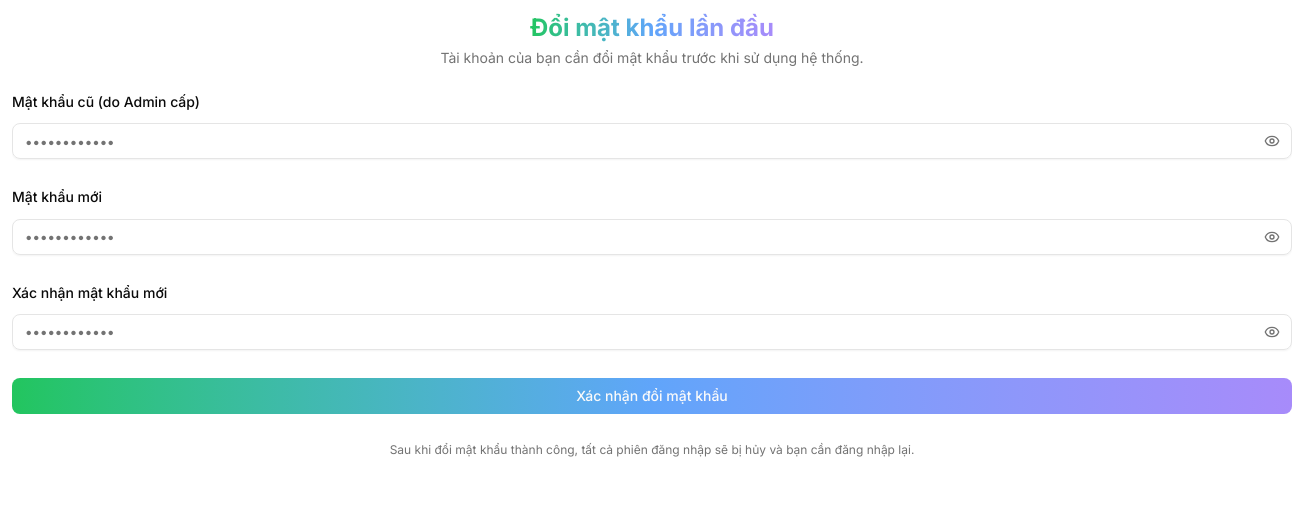
<ChangePasswordForm /> › rejects when confirmation does not match
In the password field labelled "Mật khẩu cũ (do Admin cấp)": [652, 141] box [12, 123, 1292, 159], type "OldPass1!"
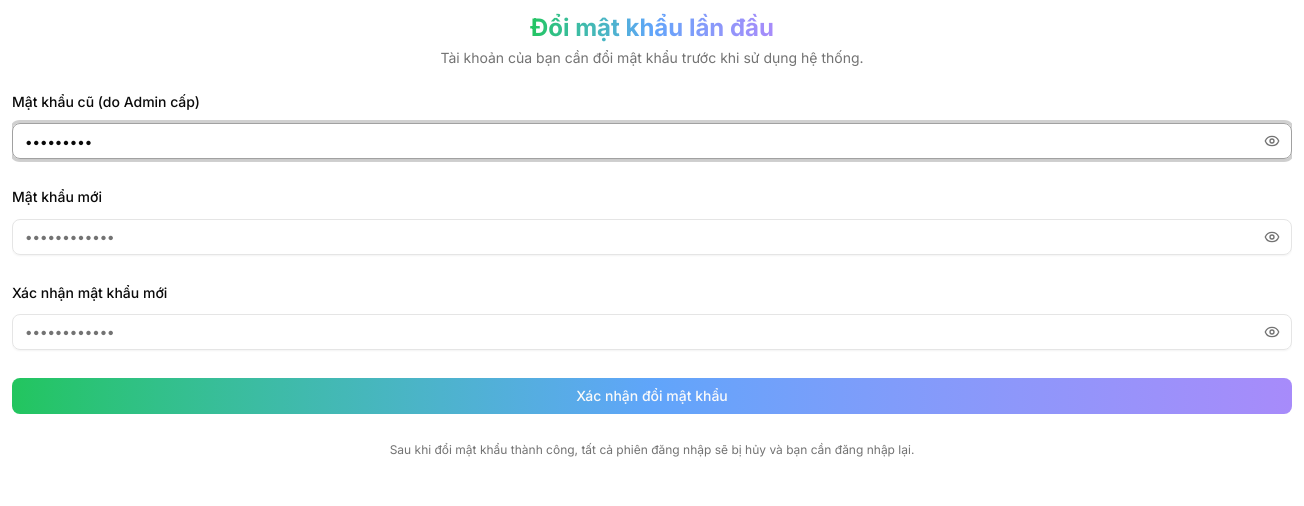
In the password field labelled "Mật khẩu mới": [652, 236] box [12, 218, 1292, 254], type "NewPass1!"
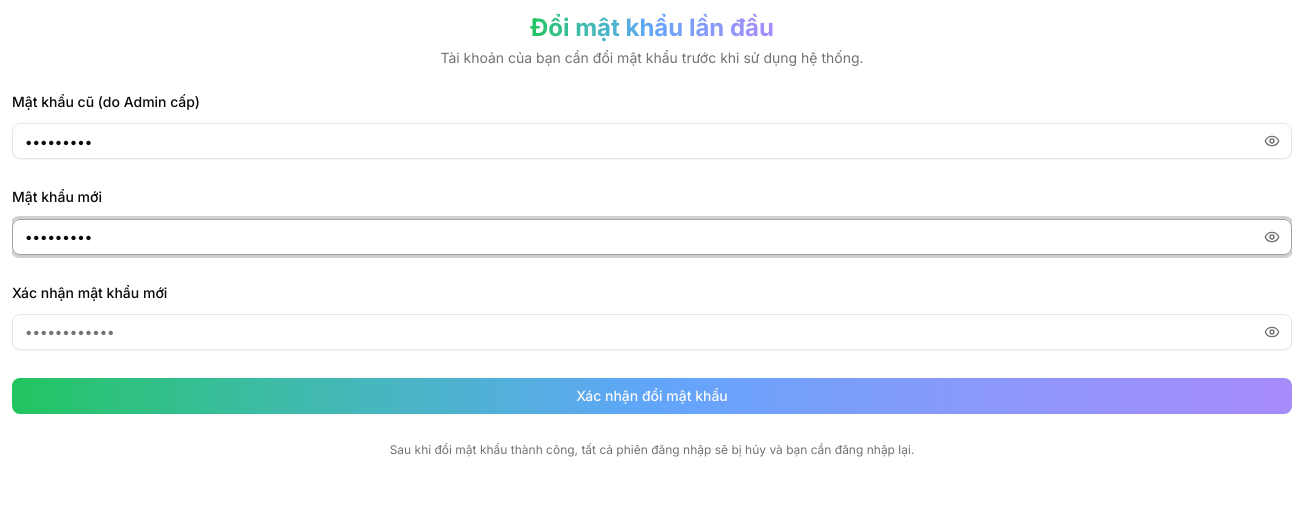
In the password field labelled "Xác nhận mật khẩu mới": [652, 332] box [12, 314, 1292, 350], type "Different1!"
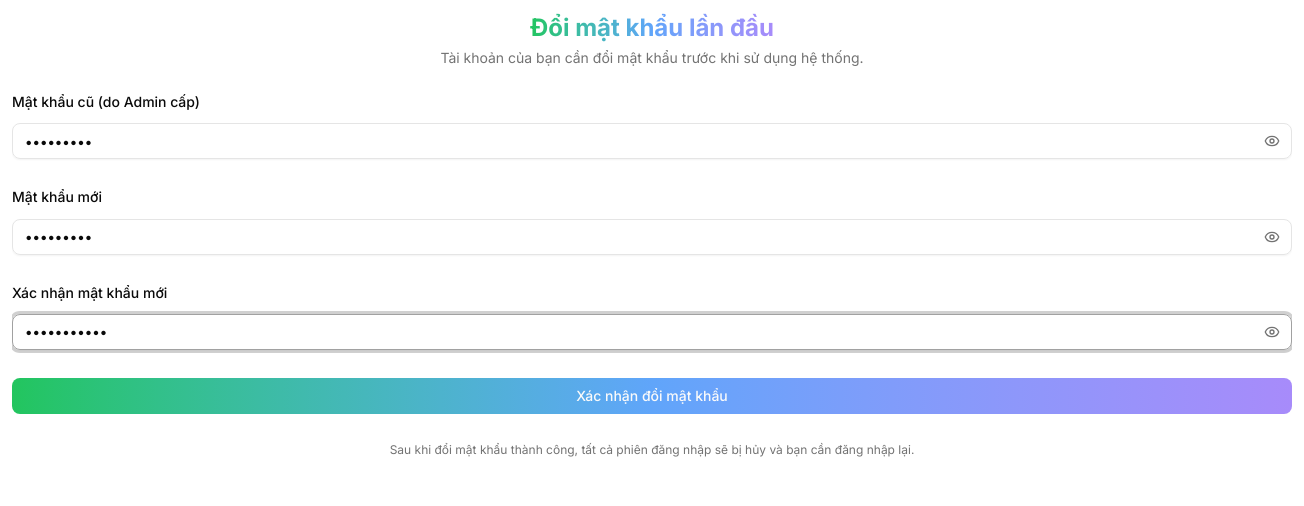
Click the button "Xác nhận đổi mật khẩu": [652, 396] box [12, 378, 1292, 414]
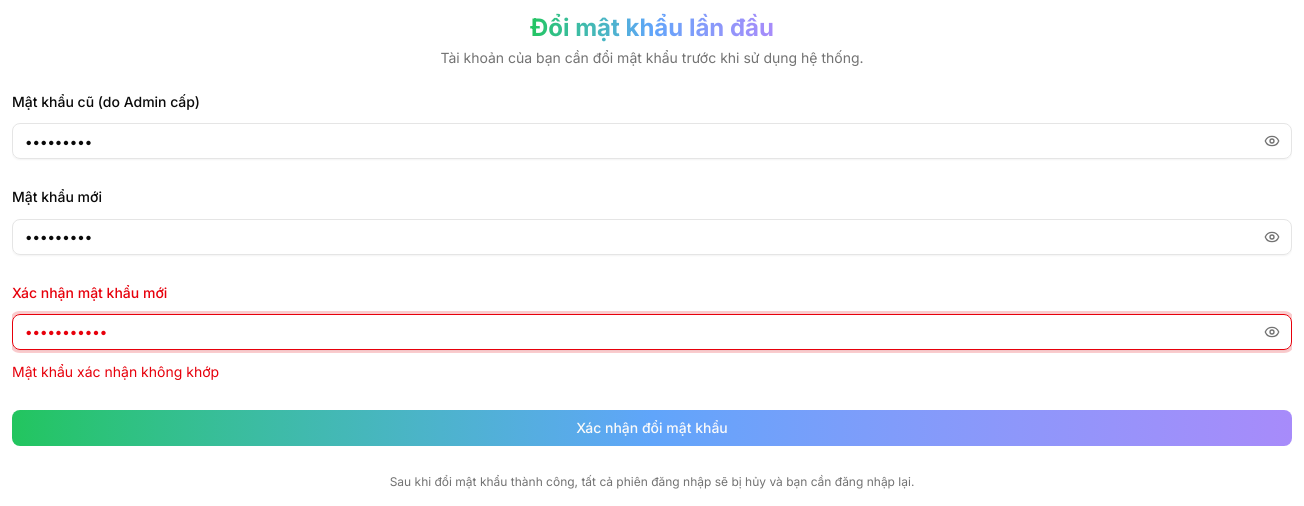
Check: the text "Mật khẩu xác nhận không khớp" is shown, box [12, 363, 219, 380]
